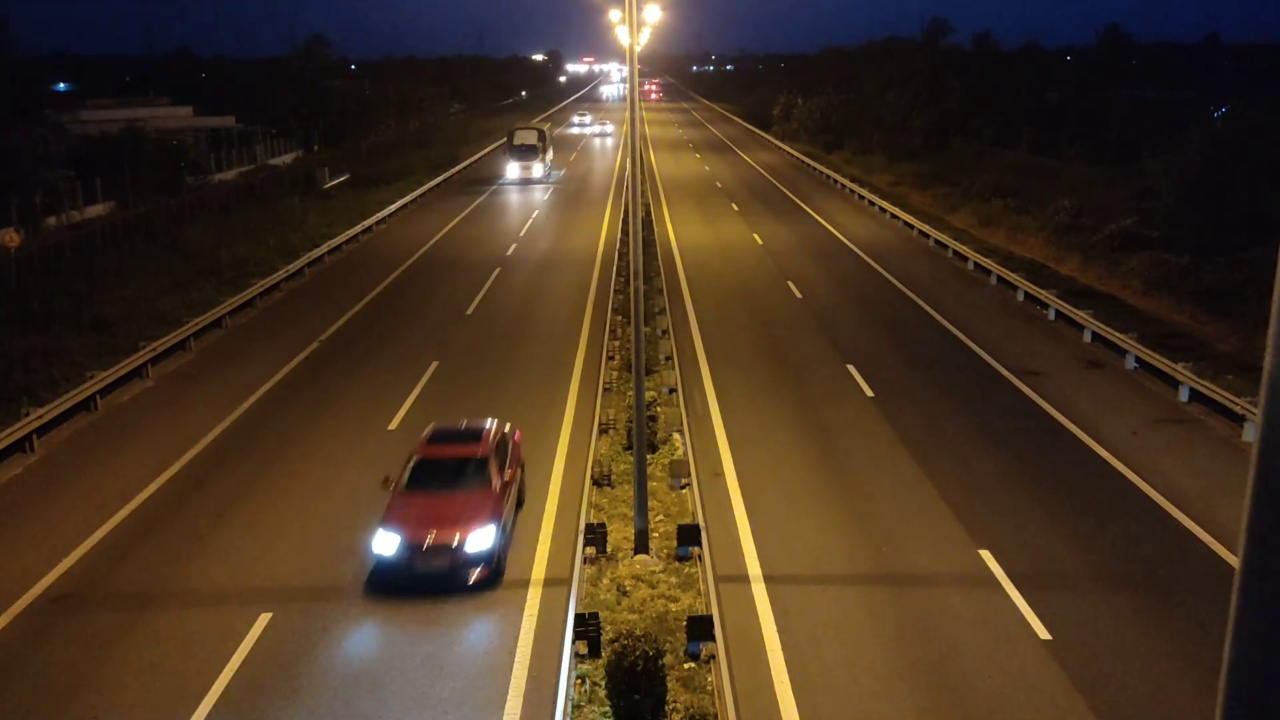car: (364, 417, 526, 594)
truck: (498, 117, 558, 187)
